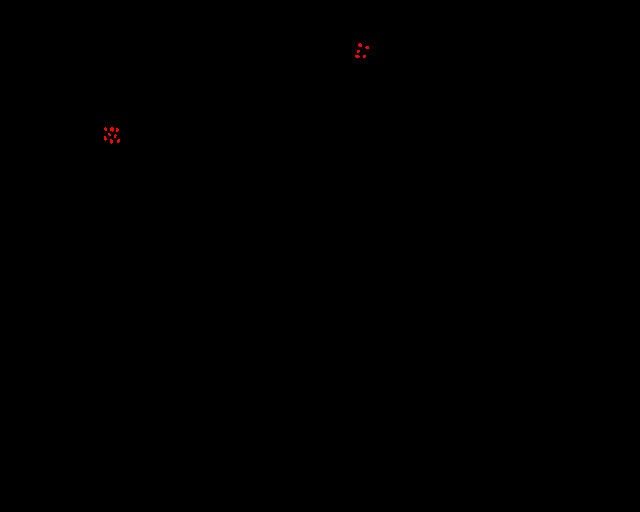Target: (110, 127, 114, 132), (358, 43, 362, 47), (355, 55, 360, 58), (104, 136, 107, 141), (110, 139, 113, 144), (365, 46, 369, 49), (104, 127, 107, 131), (116, 128, 119, 132), (114, 134, 117, 138), (117, 139, 120, 143), (357, 50, 360, 53), (363, 55, 366, 58), (108, 133, 111, 136)
